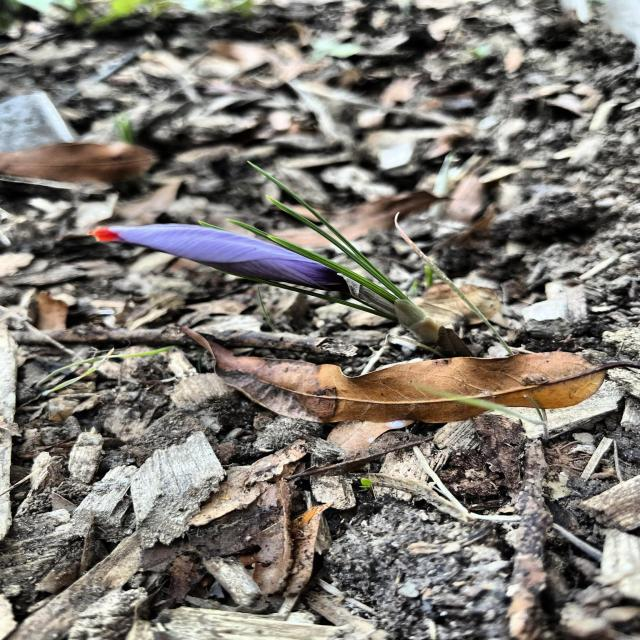Flower: (84, 218, 353, 290)
